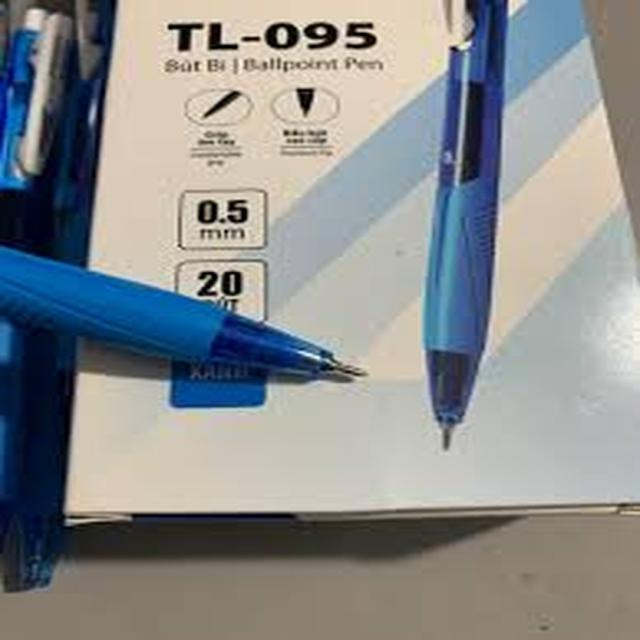pen: (0, 223, 444, 354), (0, 7, 90, 591), (410, 0, 520, 447)
